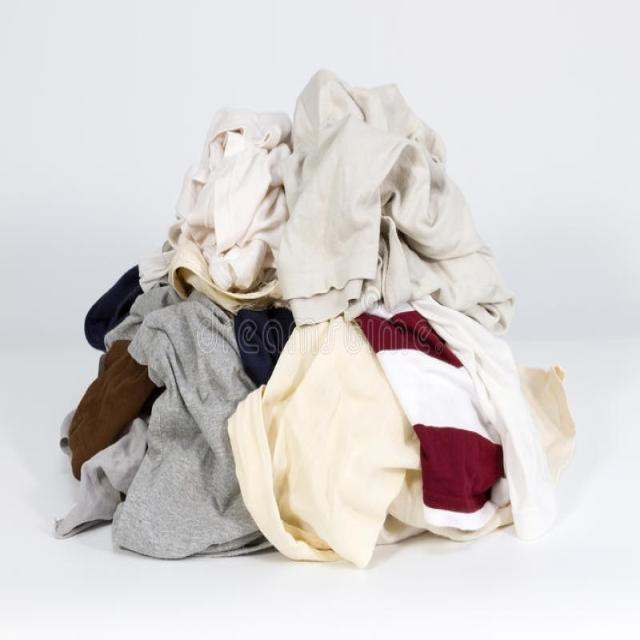clothes: (110, 88, 566, 566)
